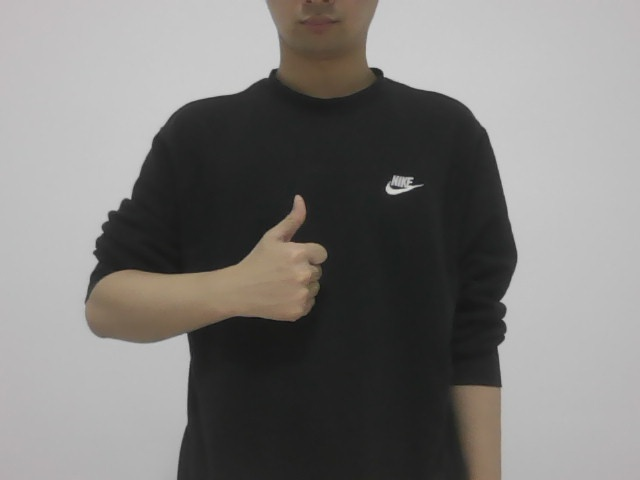good: (237, 187, 323, 328)
